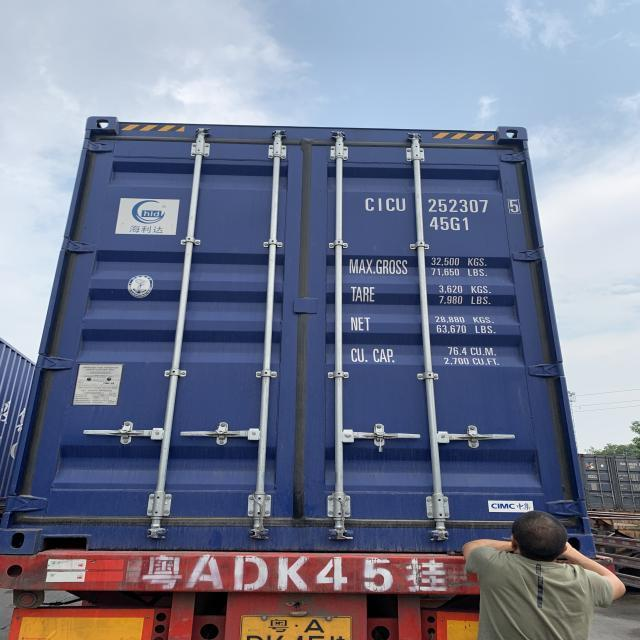ISO: (429, 216, 472, 233)
container_number: (362, 195, 520, 215)
